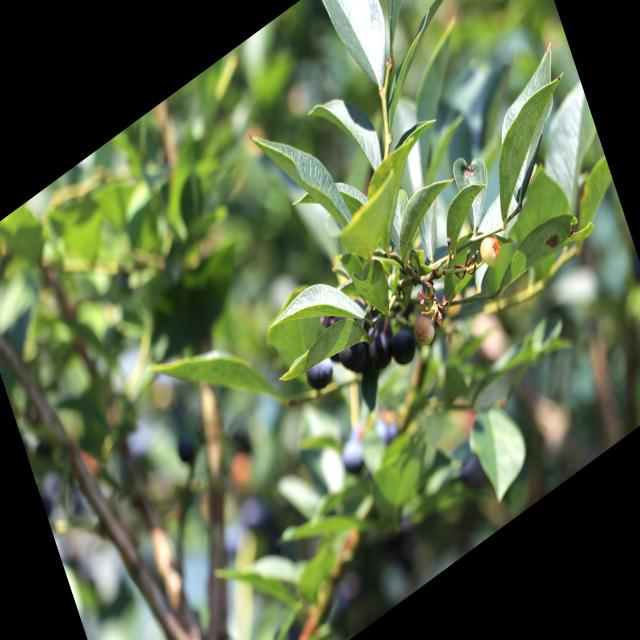blueberry: (361, 313, 398, 373), (335, 330, 371, 378), (303, 354, 336, 396), (389, 324, 419, 369)
blueberry-unripe: (476, 227, 506, 273), (409, 308, 439, 352)
